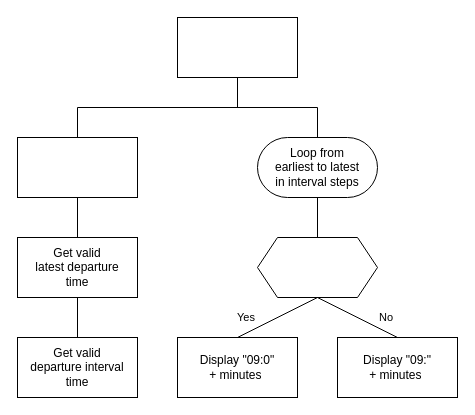
Image size: 475x415. Some labels were removed from this diagram. The shapes that lost their labels are listed below. From the top down, each one's centre as x and y in pixels, then its label:
At [237,47]: "Airport Express".
At [77,167]: "Get valid earliest departure time".
At [317,267]: "Are minutes < 10?".
